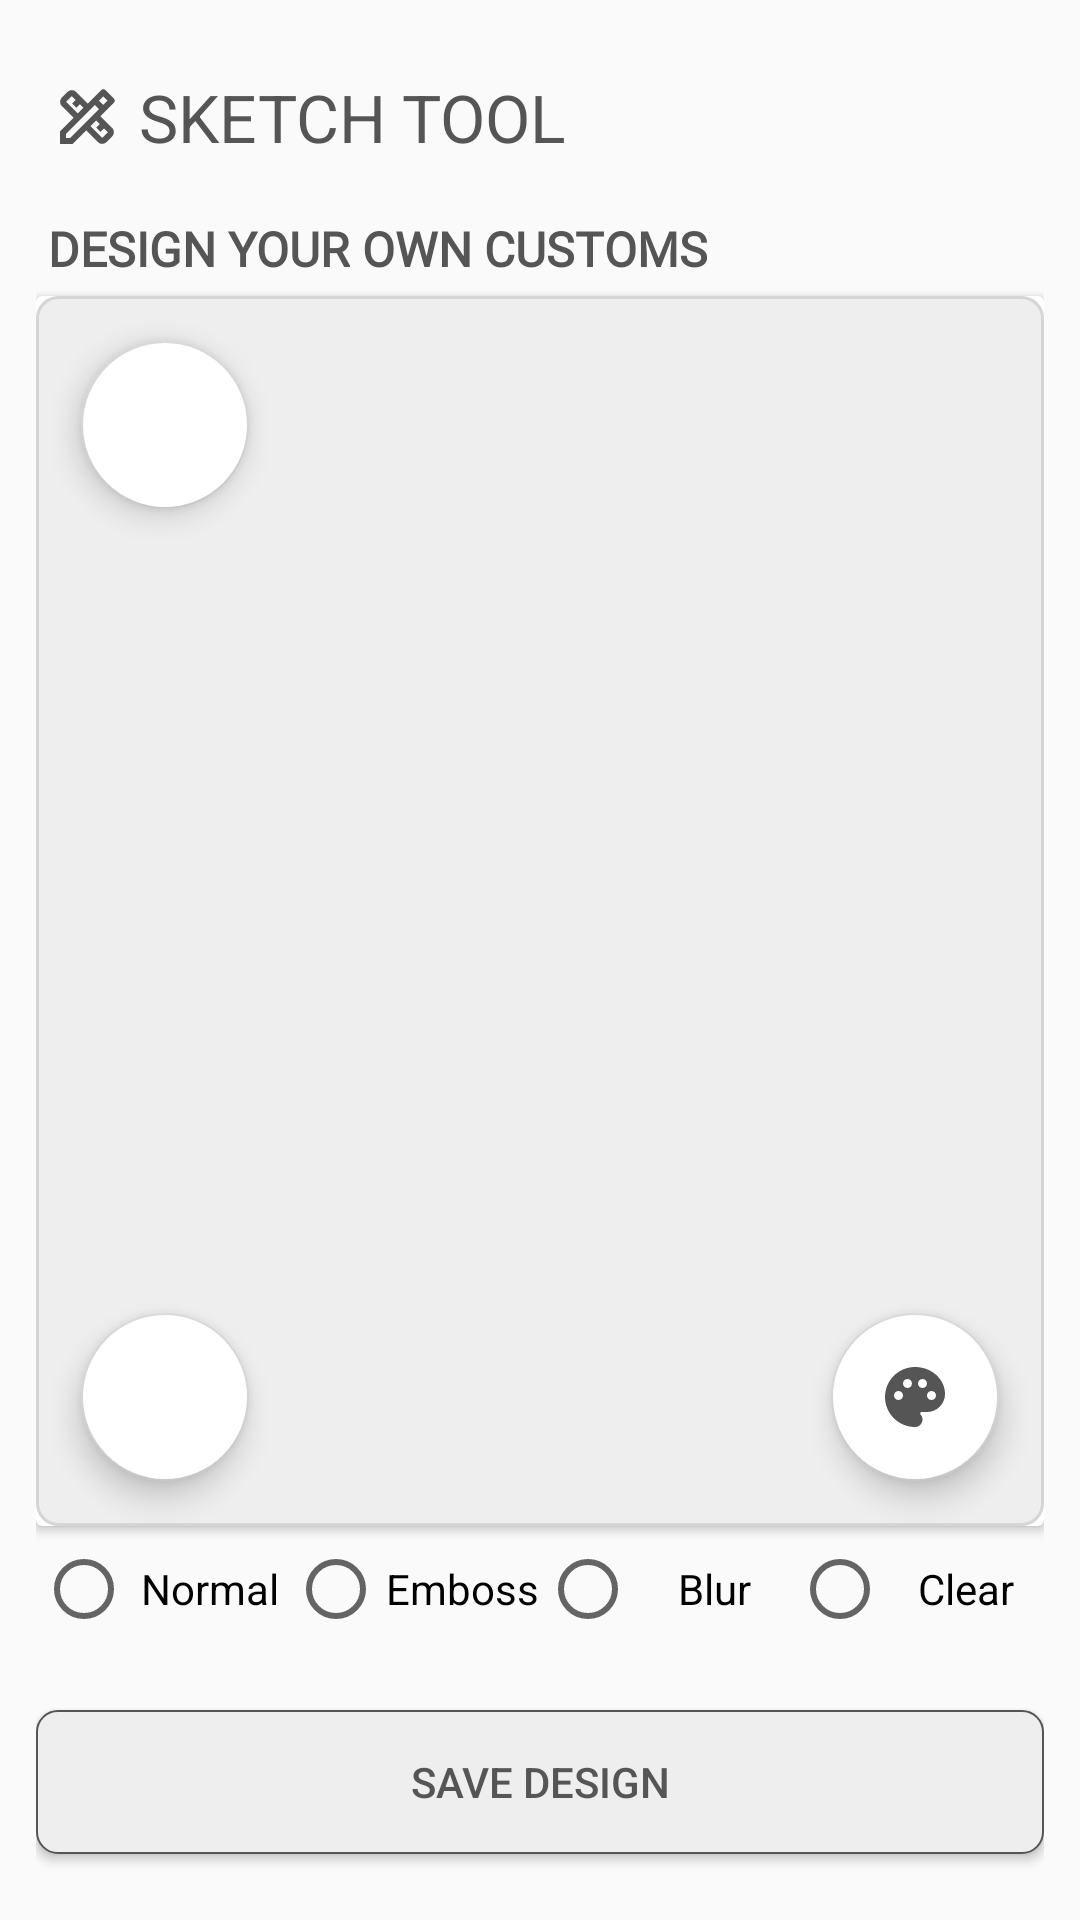

Where to tap for icons on this 1080x1920 app screen, as point (x, y):
palette: point (915, 1397)
